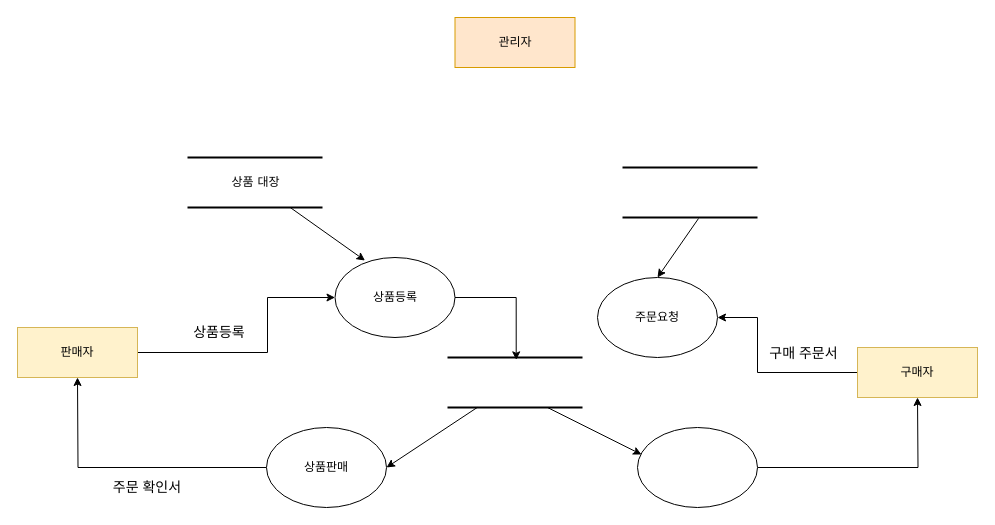
Image size: 995x525. Some labels were removed from this diagram. Here are the shapes that lost their labels. From the top down, the centre of each, then its label:
At (689,192): "주문 대장".
At (514,382): "등록 상품".
At (697,467): "구매등록".
